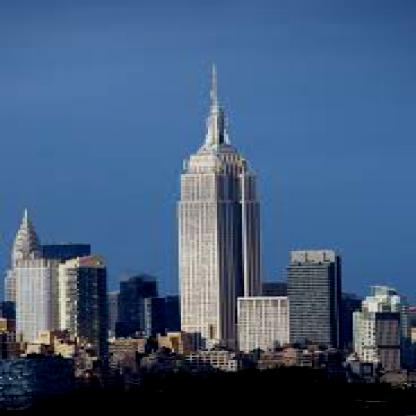Empire-State-building: (176, 54, 265, 292)
